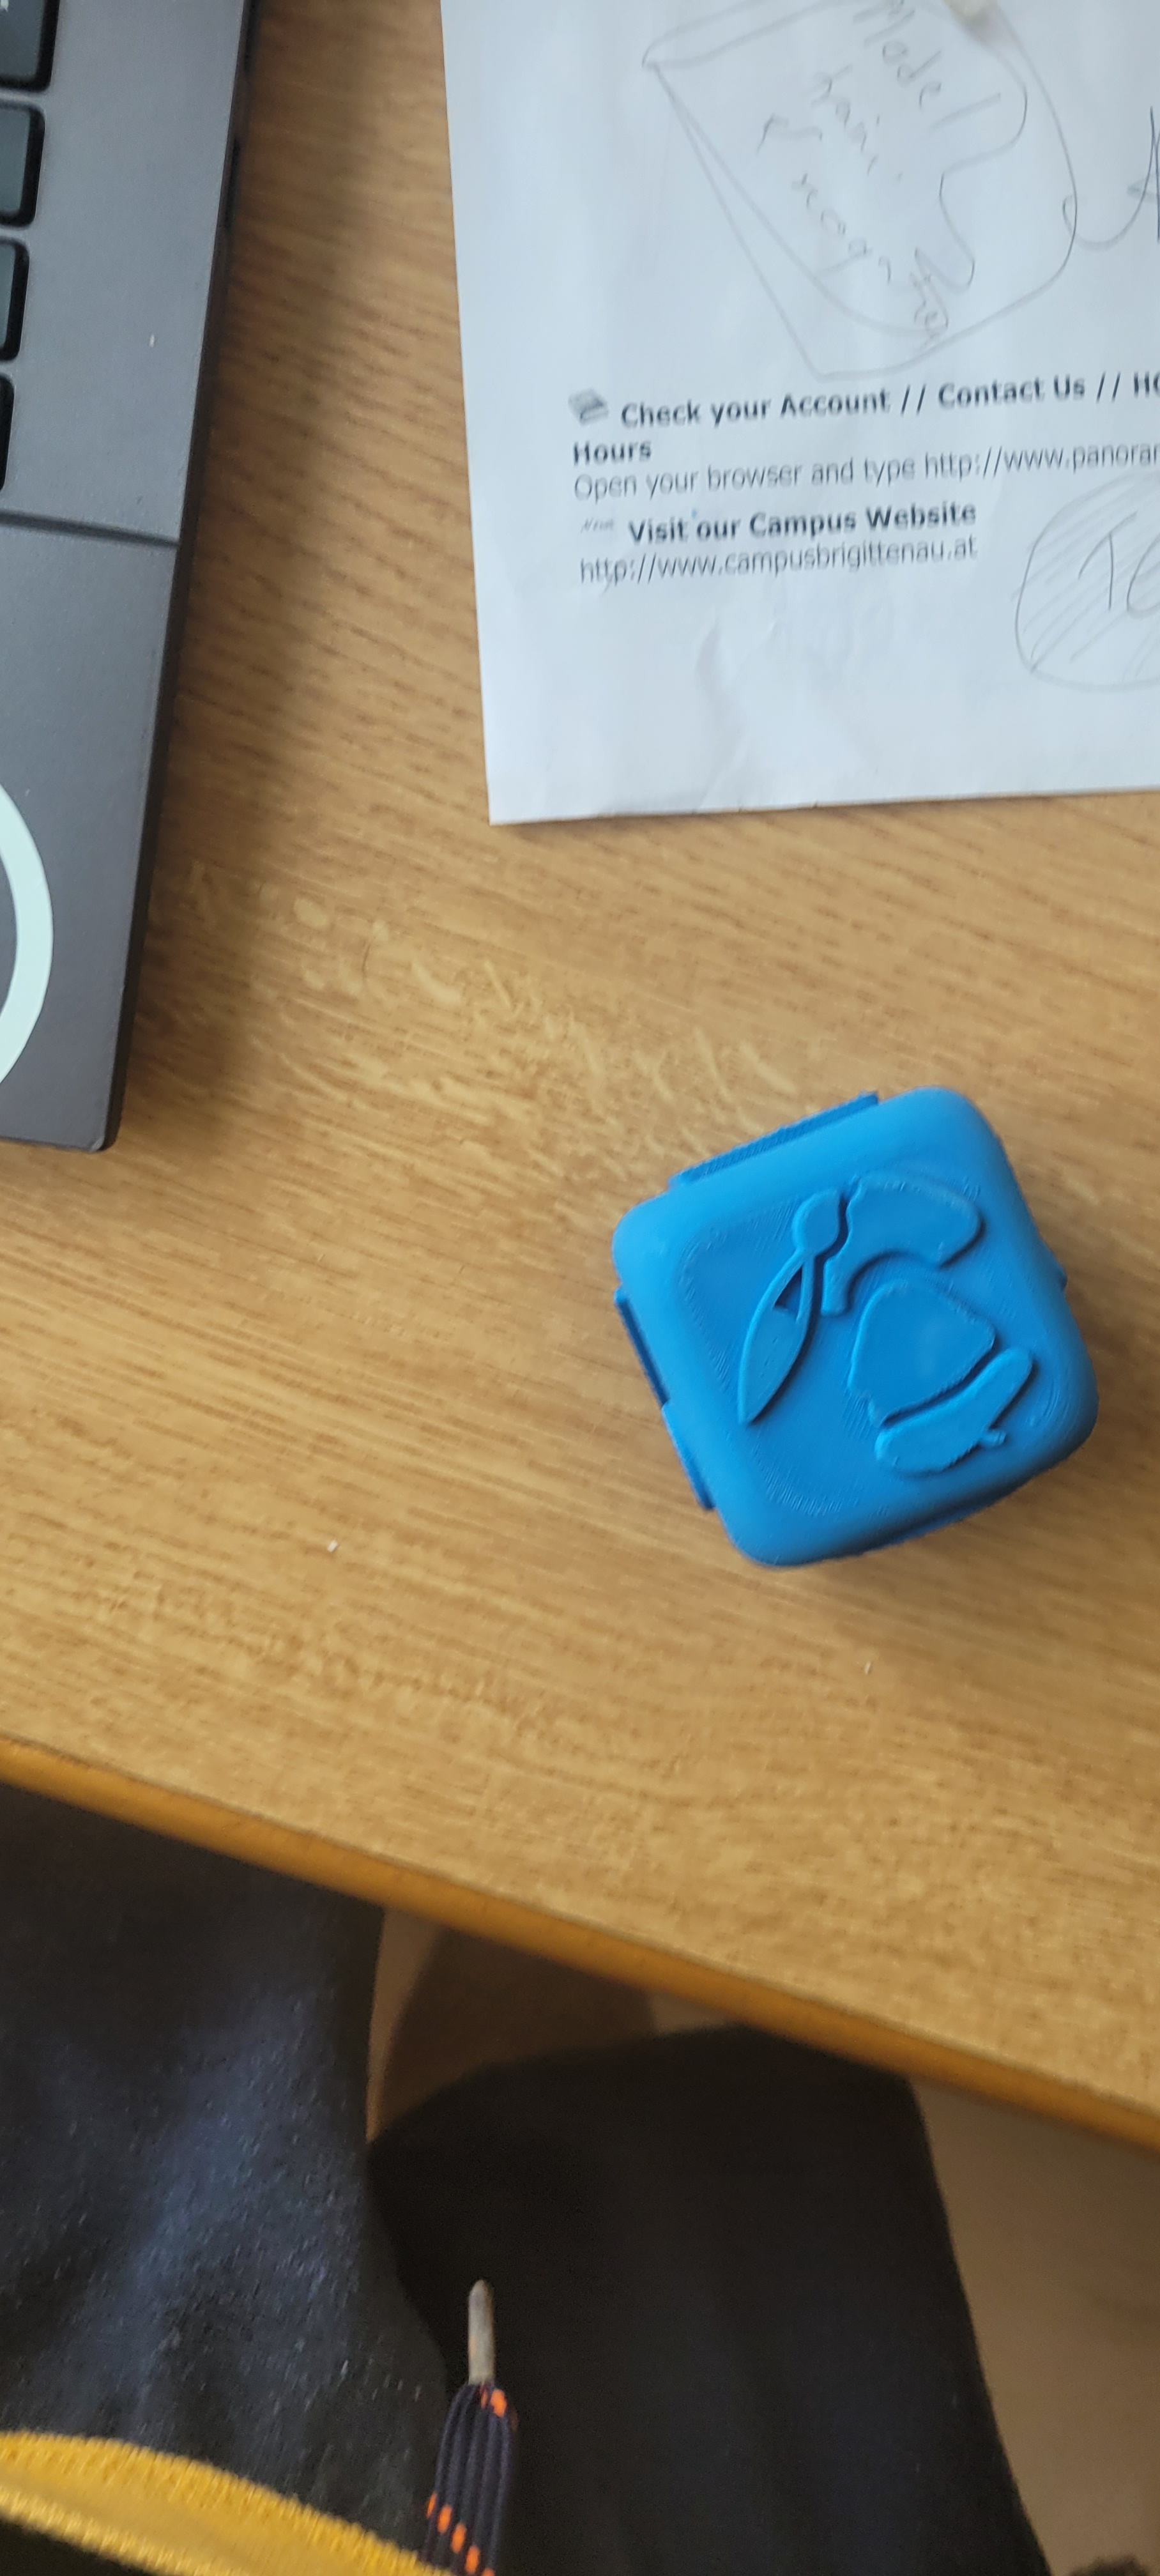Artist_Info: (633, 1141, 1116, 1536)
